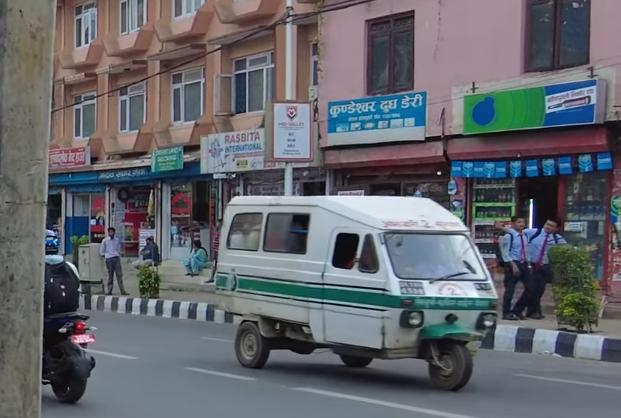tempo: (221, 186, 501, 394)
